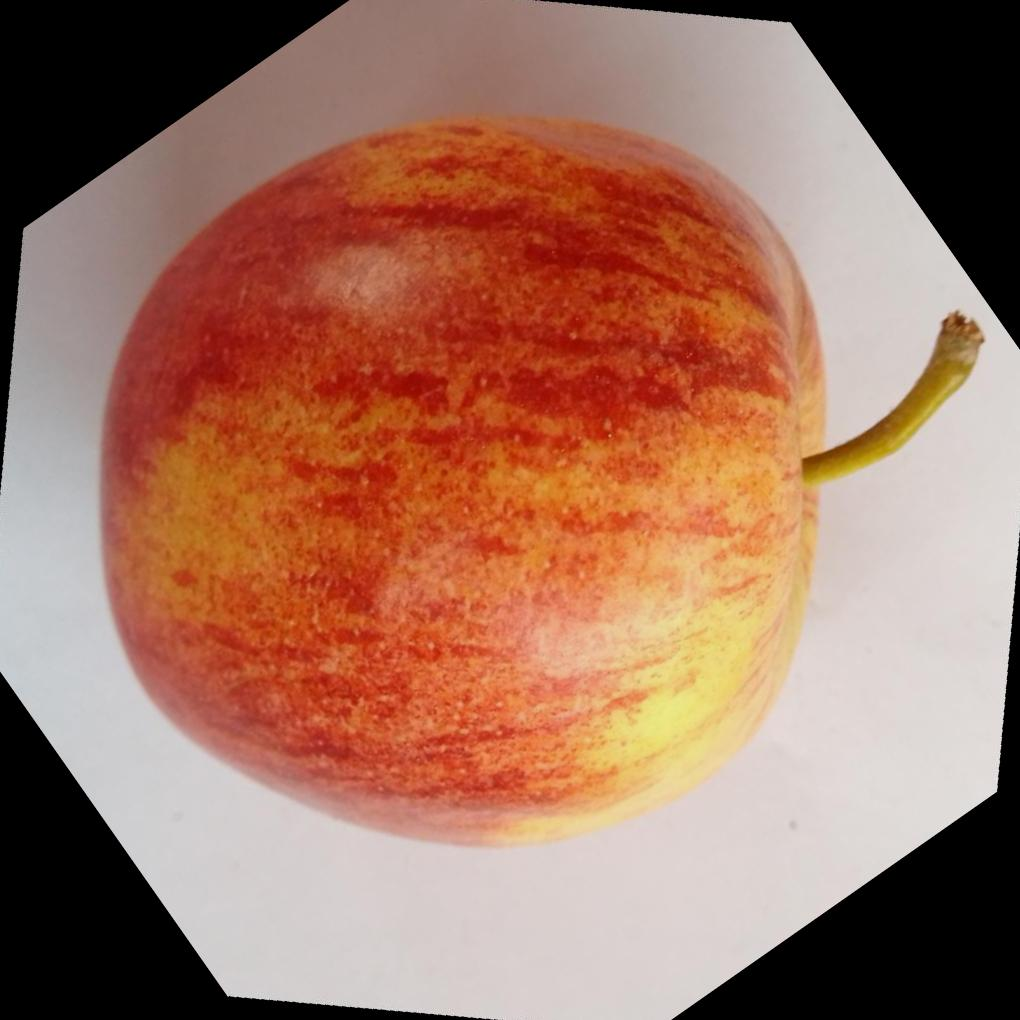FreshGuava: (96, 114, 898, 854)
